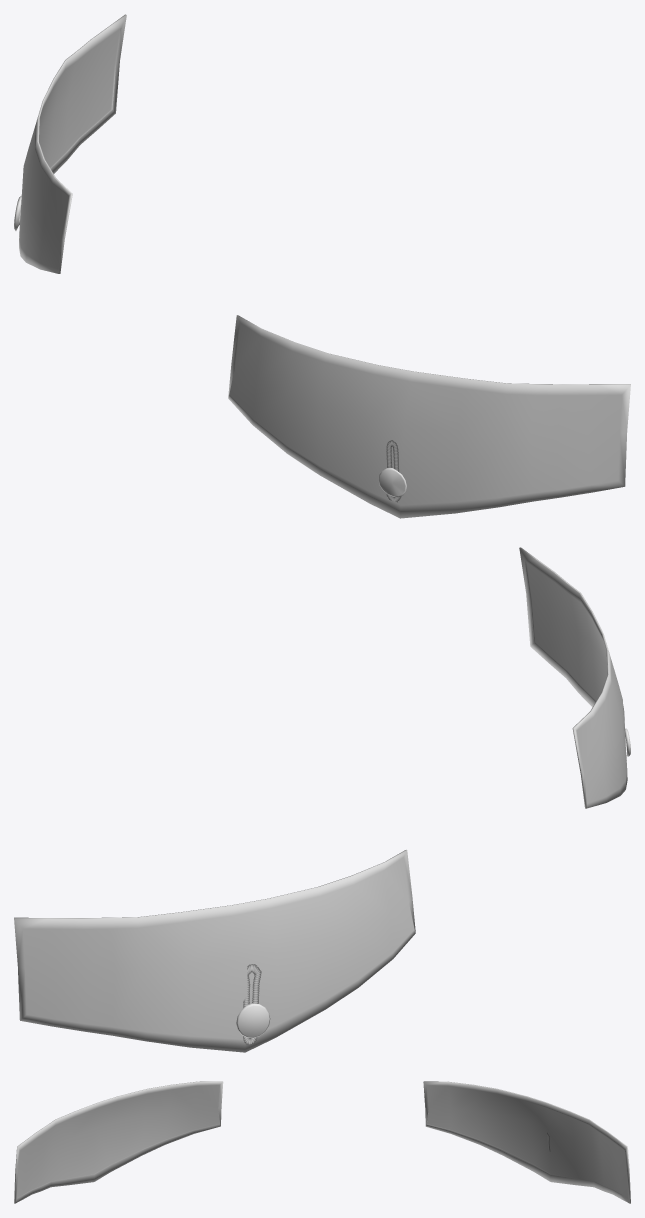
File: two_welted_pockets_with_flaps_&_buttons.glb
3 views of the same model, one above another, from view 1: azimuth 30°, elevation 25°; view 2: azimuth 150°, elevation 25°; view 3: azimuth 270°, elevation 25° (orthographic). The views are drawn at different scales.
Visible parts, largest first — view 1: SM_T_Right_welted_flap_pocket, SM_T_Left_welted_flap_pocket, SM_T_B_Right_pocket; view 2: SM_T_Left_welted_flap_pocket, SM_T_Right_welted_flap_pocket, SM_T_B_Left_pocket; view 3: SM_T_Right_welted_flap_pocket, SM_T_Left_welted_flap_pocket.
Part boxes in pixels (x1,y1,x2,y2): SM_T_Right_welted_flap_pocket: (228,315,630,518); SM_T_Left_welted_flap_pocket: (19,14,126,273); SM_T_B_Right_pocket: (378,440,406,502); SM_T_Left_welted_flap_pocket: (14,850,415,1052); SM_T_Right_welted_flap_pocket: (519,547,627,808); SM_T_B_Left_pocket: (236,964,270,1044); SM_T_Right_welted_flap_pocket: (14,1081,223,1203); SM_T_Left_welted_flap_pocket: (423,1081,630,1203).
Bounding box in the file's own units: 0.4769 × 0.2709 × 1.79.
3 materials, 1 textured.
